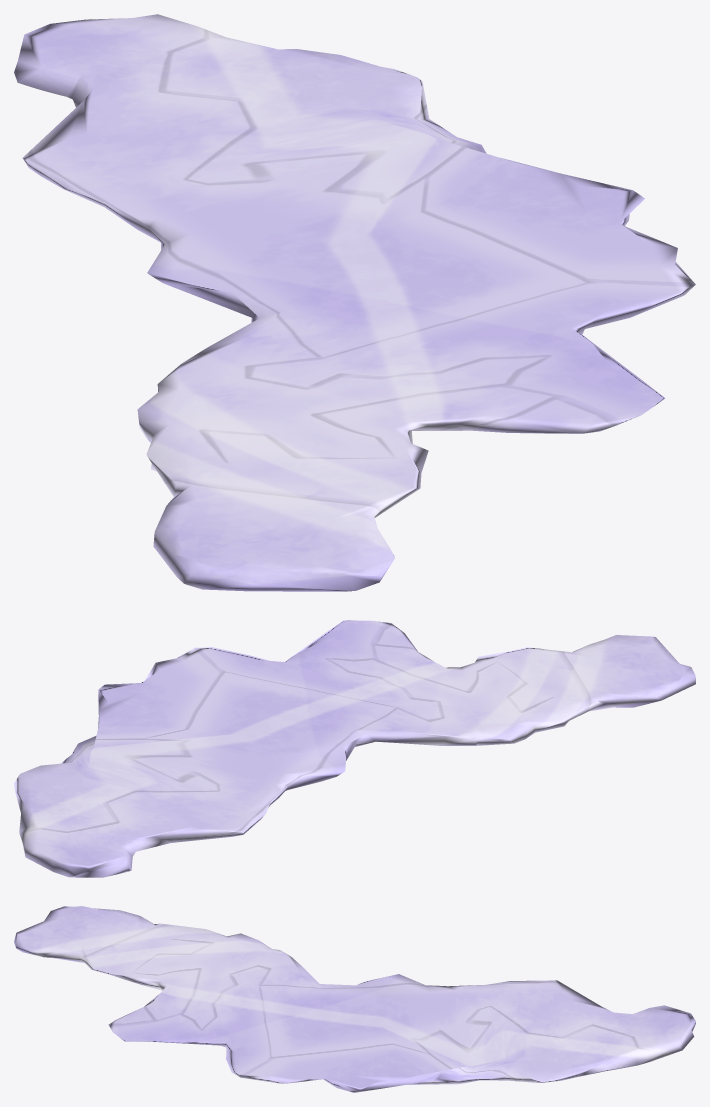
The model's file is LV6Ice.fbx.
3 views of the same model, one above another, from view 1: azimuth 30°, elevation 25°; view 2: azimuth 150°, elevation 25°; view 3: azimuth 270°, elevation 25° (orthographic). The views are drawn at different scales.
Visible parts, largest first — view 1: RockWalkway_36; view 2: RockWalkway_36; view 3: RockWalkway_36.
Boxes of the visible parts, <box> form: RockWalkway_36: <box>14,14,695,591</box>; RockWalkway_36: <box>14,620,695,877</box>; RockWalkway_36: <box>14,906,695,1092</box>.
Bounding box in the file's own units: 101 × 3.28 × 155.
